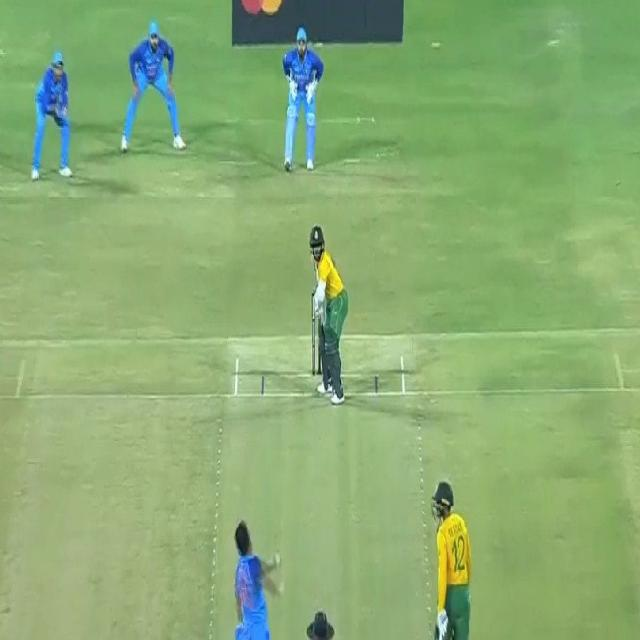stump: (312, 293, 322, 373)
